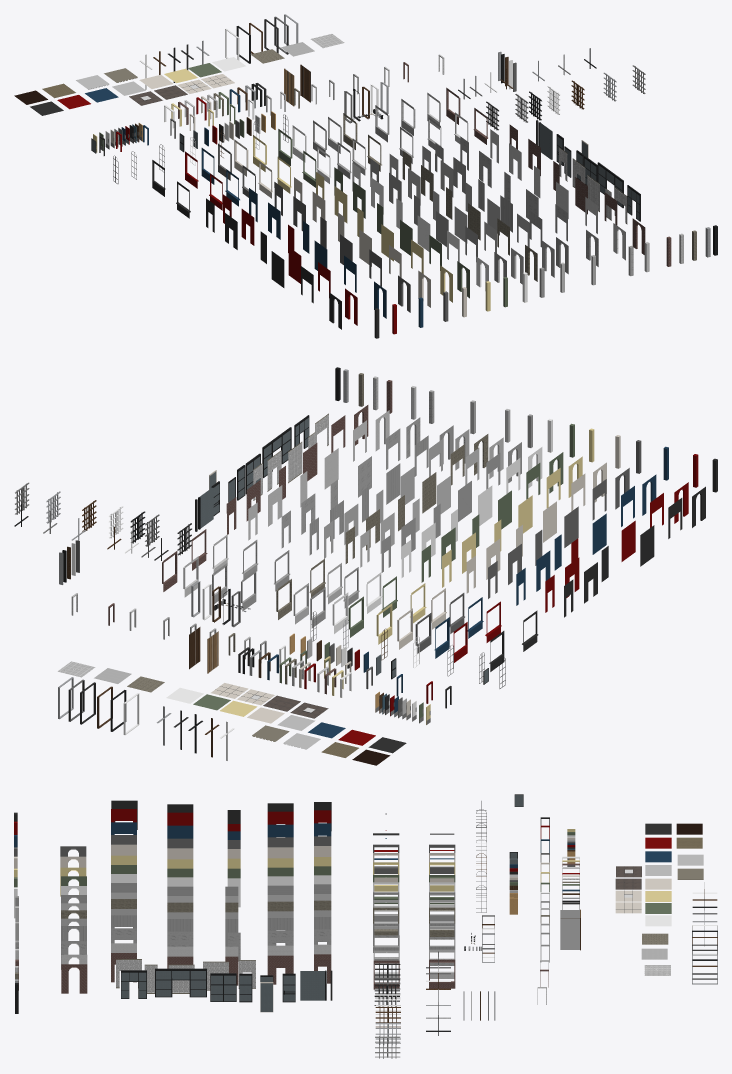
The model's file is officeWalls.fbx.
3 views of the same model, one above another, from view 1: azimuth 30°, elevation 25°; view 2: azimuth 150°, elevation 25°; view 3: azimuth 270°, elevation 25° (orthographic). The views are drawn at different scales.
Parts seen in each view (by area): view 1: Big glass doorway; view 2: Big glass doorway; view 3: Big glass doorway, big glasswall, glass wall, cement wall.001, glass doorway, brick archway, brick doorway, small glass wall white, Big Rough Plaster wall.
Part boxes in pixels (x1=…): Big glass doorway: x1=597, y1=162, x2=623, y2=208; Big glass doorway: x1=262, y1=427, x2=291, y2=477; Big glass doorway: x1=155, y1=968, x2=206, y2=997; big glasswall: x1=210, y1=973, x2=236, y2=1001; glass wall: x1=300, y1=971, x2=325, y2=1000; cement wall.001: x1=560, y1=918, x2=579, y2=949; glass doorway: x1=121, y1=970, x2=146, y2=998; brick archway: x1=61, y1=964, x2=87, y2=993; brick doorway: x1=267, y1=955, x2=293, y2=984; small glass wall white: x1=260, y1=982, x2=273, y2=1012; Big Rough Plaster wall: x1=167, y1=931, x2=193, y2=946.
Bounding box in the file's own units: 8799 × 1041 × 10811.
